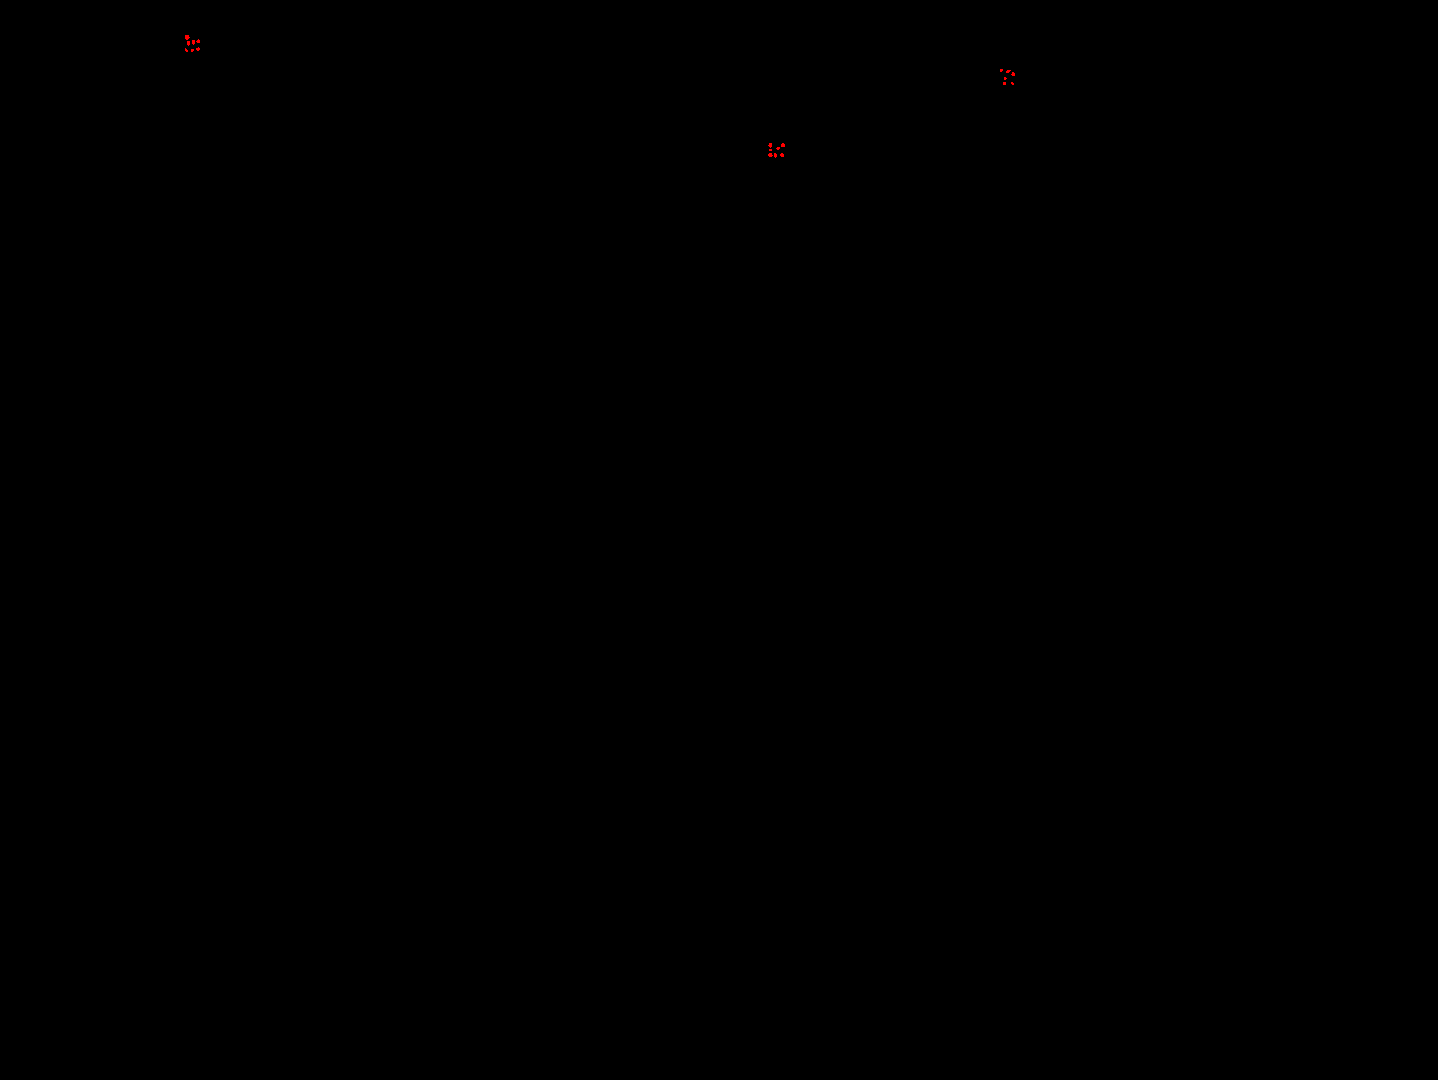Target: (185, 35, 191, 40), (1010, 71, 1015, 76), (768, 143, 772, 147), (192, 40, 195, 45), (187, 41, 191, 47), (768, 153, 773, 157), (196, 39, 200, 43), (196, 47, 200, 51), (185, 48, 188, 52), (781, 143, 785, 147), (773, 153, 777, 158), (191, 49, 194, 52), (1004, 77, 1007, 81), (1003, 82, 1006, 85), (1010, 82, 1014, 85), (780, 153, 784, 157), (1006, 70, 1010, 73), (776, 147, 780, 150), (769, 149, 772, 151), (1000, 69, 1003, 71)
